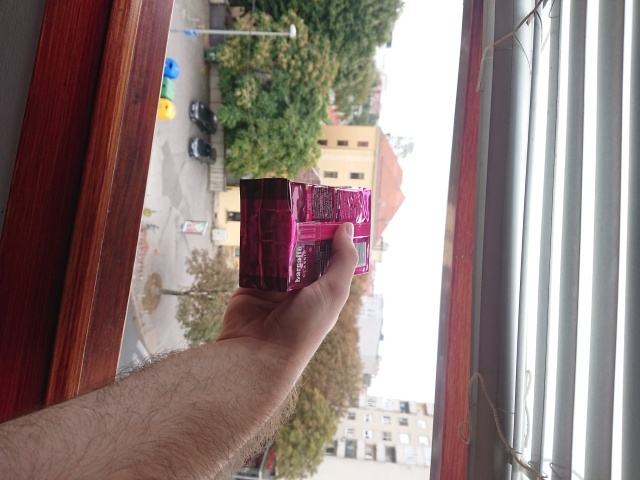Barcaffe Classic Original 225g: (237, 176, 374, 294)
